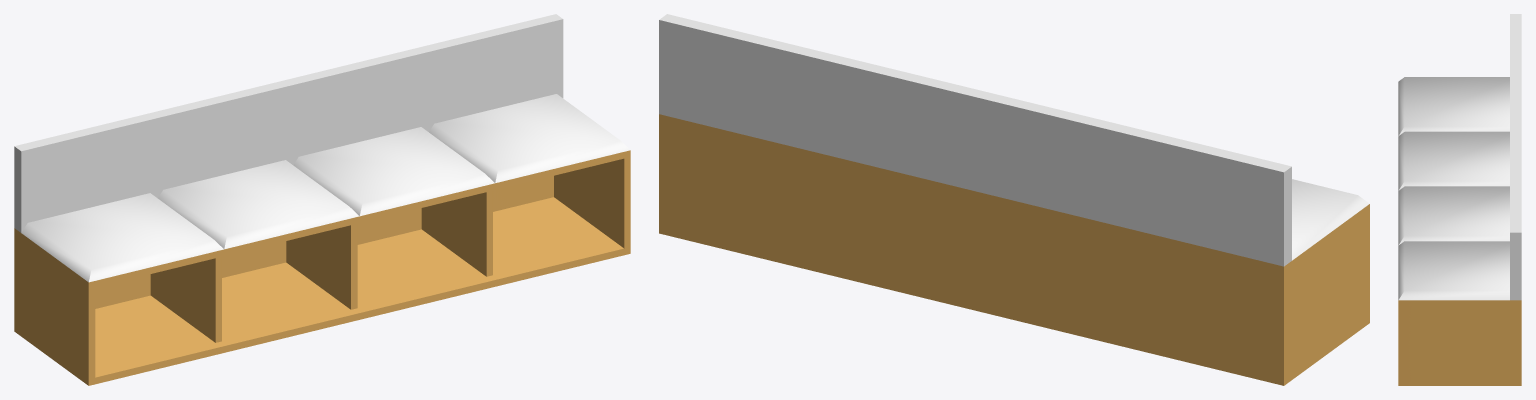
Rendered from tv_wall_002.glb.
3 renders of one model, left to right at view 1: azimuth 30°, elevation 25°; view 2: azimuth 150°, elevation 25°; view 3: azimuth 270°, elevation 25°, orthographic. The views are drawn at different scales.
Visible parts, largest first — view 1: tv_wall_002; view 2: tv_wall_002; view 3: tv_wall_002.
Boxes of the visible parts, box(x1,y1,x2,y2) form: tv_wall_002: box(14, 14, 630, 385); tv_wall_002: box(659, 14, 1369, 385); tv_wall_002: box(1398, 14, 1521, 385).
Bounding box in the file's own units: 2.46 × 0.8019 × 0.5843.
Materials: 1 (1 with a texture image).
